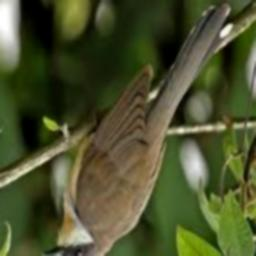Cuckoo: (41, 4, 233, 256)
